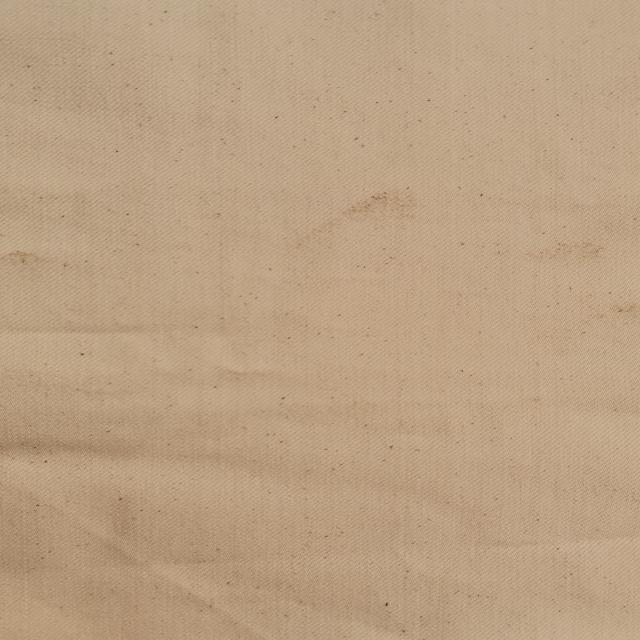taaaches: (290, 190, 420, 263), (526, 236, 612, 270), (595, 298, 640, 319), (0, 248, 44, 269)
